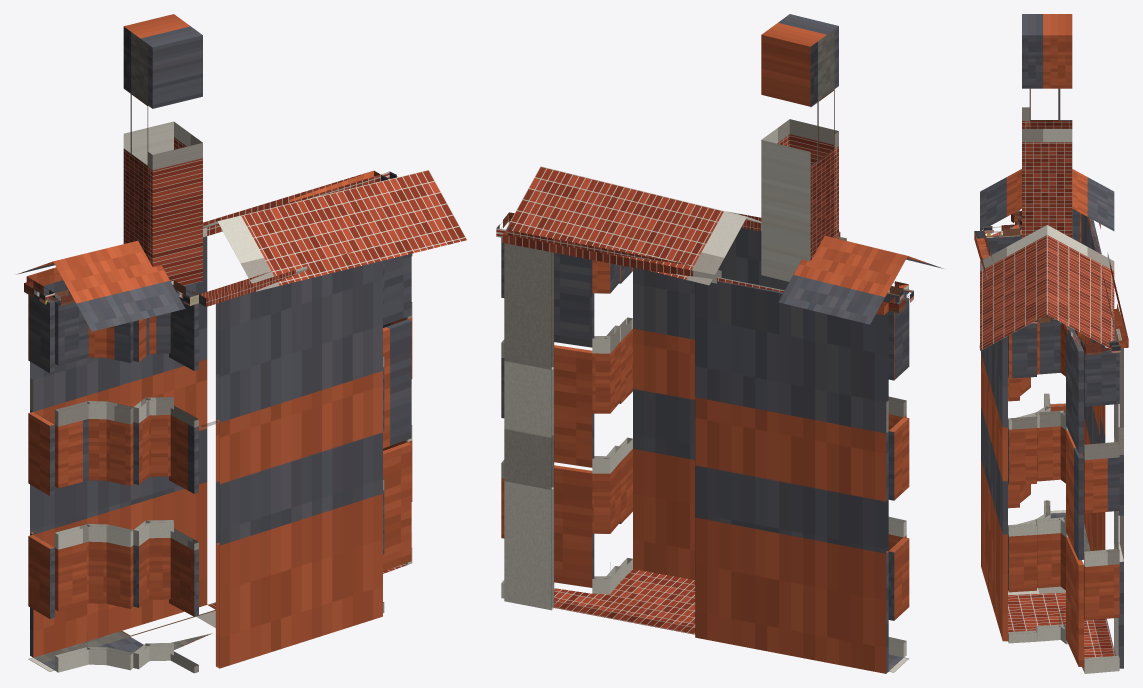
The picture shows the model from 3 angles, left to right: view 1: azimuth 30°, elevation 25°; view 2: azimuth 150°, elevation 25°; view 3: azimuth 270°, elevation 25°; orthographic projection. The views are drawn at different scales.
Parts seen in each view (by area): view 1: 680090683__wall_7_xb, 680090683_roof_-1_xb, 680090683__wall_1_xb, 680090683__chimney_0_xb, 680090683__wall_3_xb, 680090683__wall_13_xb, 680090683__wall_8_xb, 680090683__wall_0_xb, 680090683__wall_11_xb, 680090683__wall_9_xb, 680090683__wall_12_xb, 680090683__wall_10_xb (+3 smaller); view 2: 680090683__wall_1_xb, 680090683_roof_1_xb, 680090683__wall_7_xb, 680090683__chimney_0_xb, 680090683__wall_3_xb, 680090683__base, 680090683__wall_0_xb, 680090683__wall_4_xb, 680090683__cornice_1, 680090683__wall_5_xb, 680090683__wall_6_xb, 680090683__wall_13_xb (+1 smaller); view 3: 680090683__chimney_0_xb, 680090683_roof_-1_xb, 680090683_roof_1_xb, 680090683__wall_2_xb, 680090683__wall_7_xb, 680090683__wall_3_xb, 680090683__wall_6_xb, 680090683__wall_5_xb, 680090683__wall_1_xb, 680090683__base, 680090683__wall_4_xb, 680090683__wall_8_xb (+6 smaller).
Boxes of the visible parts, bbox=[...] form: 680090683__wall_7_xb: bbox=[200, 261, 382, 668]; 680090683_roof_-1_xb: bbox=[53, 169, 467, 331]; 680090683__wall_1_xb: bbox=[30, 236, 207, 657]; 680090683__chimney_0_xb: bbox=[123, 14, 202, 285]; 680090683__wall_3_xb: bbox=[383, 254, 411, 571]; 680090683__wall_13_xb: bbox=[55, 300, 89, 672]; 680090683__wall_8_xb: bbox=[169, 291, 198, 673]; 680090683__wall_0_xb: bbox=[28, 290, 54, 671]; 680090683__wall_11_xb: bbox=[105, 322, 133, 670]; 680090683__wall_9_xb: bbox=[145, 312, 173, 661]; 680090683__wall_12_xb: bbox=[86, 326, 108, 665]; 680090683__wall_10_xb: bbox=[133, 318, 150, 669]; 680090683__wall_1_xb: bbox=[504, 243, 888, 673]; 680090683_roof_1_xb: bbox=[506, 166, 907, 324]; 680090683__wall_7_xb: bbox=[633, 228, 789, 579]; 680090683__chimney_0_xb: bbox=[761, 14, 838, 281]; 680090683__wall_3_xb: bbox=[554, 253, 594, 587]; 680090683__base: bbox=[554, 569, 902, 670]; 680090683__wall_0_xb: bbox=[888, 297, 909, 672]; 680090683__wall_4_xb: bbox=[592, 260, 610, 593]; 680090683__cornice_1: bbox=[502, 230, 888, 315]; 680090683__wall_5_xb: bbox=[604, 263, 620, 593]; 680090683__wall_6_xb: bbox=[619, 265, 632, 580]; 680090683__wall_13_xb: bbox=[883, 293, 906, 657]; 680090683__chimney_0_xb: bbox=[1022, 14, 1072, 238]; 680090683_roof_-1_xb: bbox=[980, 169, 1047, 350]; 680090683_roof_1_xb: bbox=[1047, 169, 1114, 349]; 680090683__wall_2_xb: bbox=[1084, 350, 1119, 673]; 680090683__wall_7_xb: bbox=[981, 246, 1007, 641]; 680090683__wall_3_xb: bbox=[1066, 325, 1083, 666]; 680090683__wall_6_xb: bbox=[1008, 323, 1036, 643]; 680090683__wall_5_xb: bbox=[1036, 319, 1064, 641]; 680090683__wall_1_xb: bbox=[1081, 213, 1123, 668]; 680090683__base: bbox=[1008, 513, 1115, 670]; 680090683__wall_4_xb: bbox=[1059, 324, 1067, 644]; 680090683__wall_8_xb: bbox=[986, 235, 1019, 508].
Bounding box in the file's own units: 1.18 × 1.75 × 0.459.
1 material, 1 textured.
